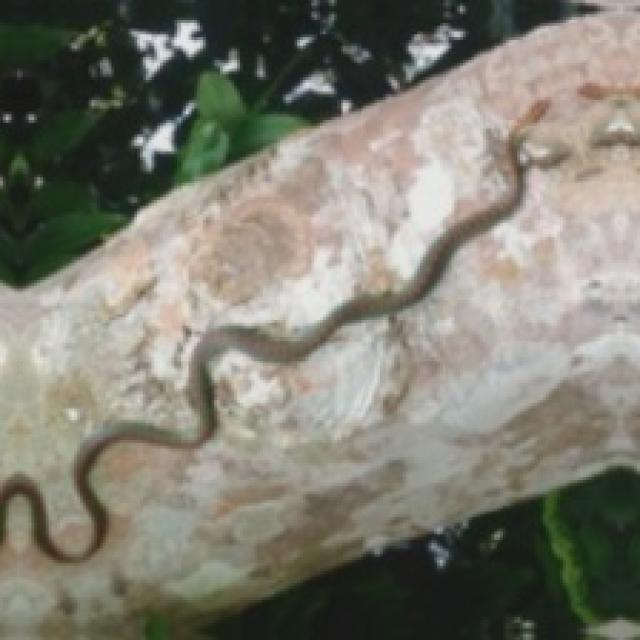paradise tree snake: (0, 97, 569, 560)
